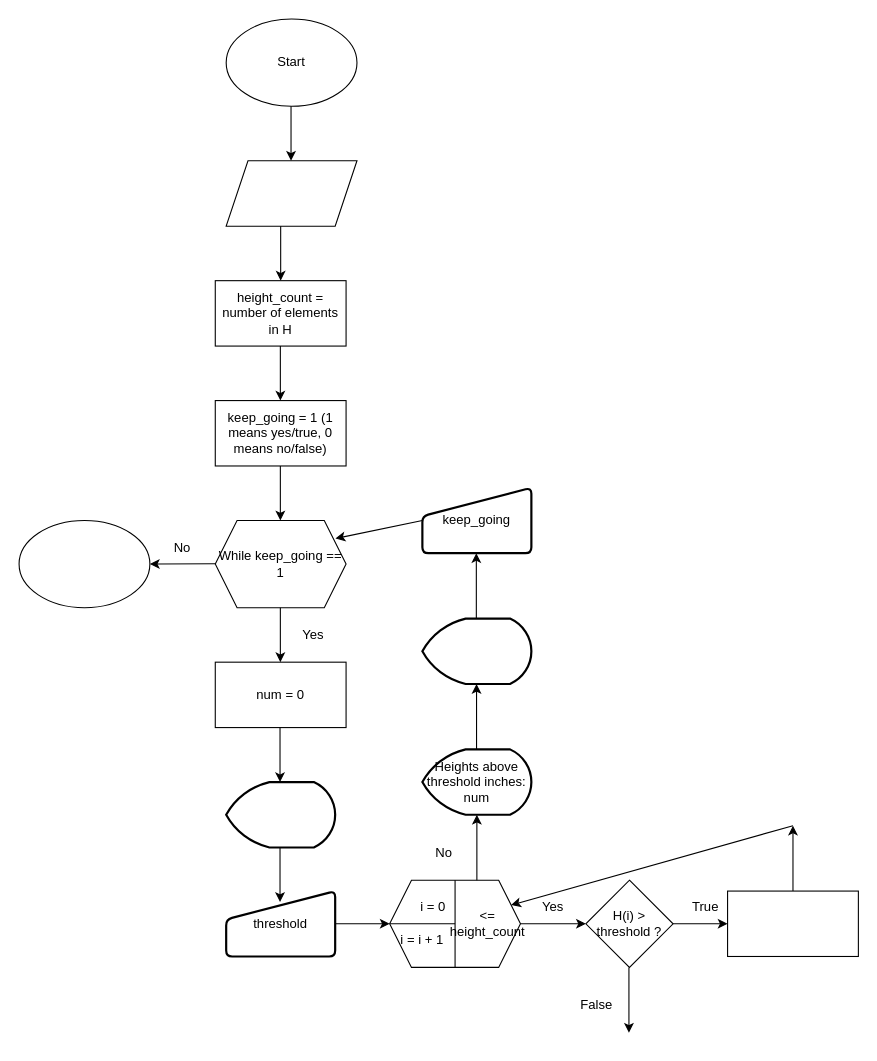
Some shapes in this 877 by 1061 pixel diagram are drawn without their labels. Each missing label, with the centre of its shape:
"Ask user to test different height using 1, 0 as true, false respectively" goes at point 476,651.
"End" goes at point 84,563.
"increment num" goes at point 792,923.
"Load W05B_heights.txt into vector H" goes at point 291,193.
"maximum height in inches:" goes at point 280,814.
